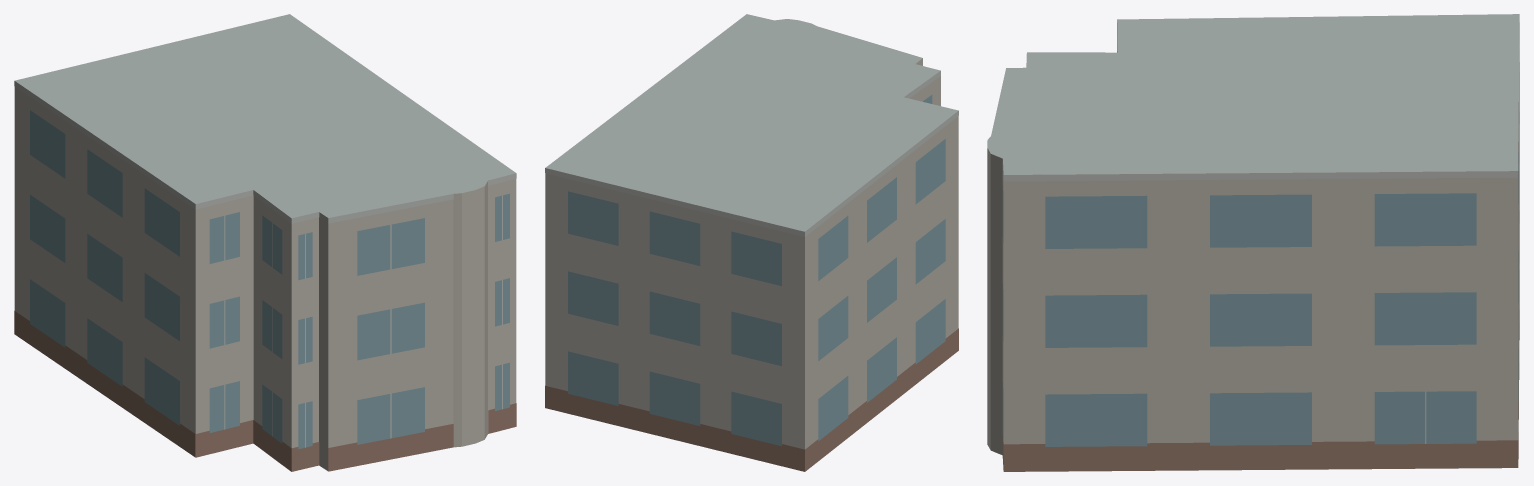
The model's file is survey-upis-32916693.glb.
3 renders of one model, left to right at view 1: azimuth 30°, elevation 25°; view 2: azimuth 150°, elevation 25°; view 3: azimuth 270°, elevation 25°, orthographic. The views are drawn at different scales.
Visible parts, largest first — view 1: survey-upis-32916693.tmp; view 2: survey-upis-32916693.tmp; view 3: survey-upis-32916693.tmp.
Boxes of the visible parts, x1,y1,x2,y2 form: survey-upis-32916693.tmp: (14, 14, 516, 471); survey-upis-32916693.tmp: (545, 14, 958, 471); survey-upis-32916693.tmp: (987, 14, 1519, 471).
Bounding box in the file's own units: 13.04 × 11.2 × 18.21.
